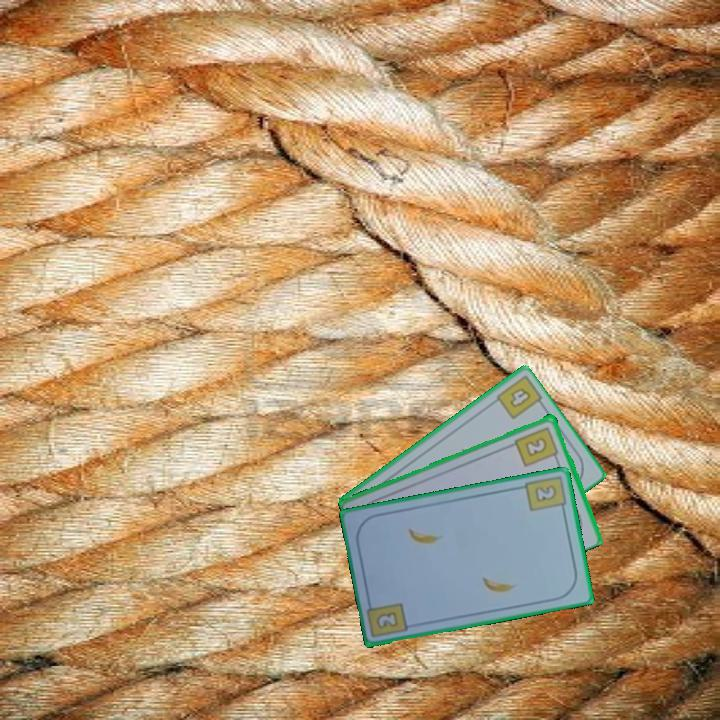2b: (512, 423, 561, 469), (521, 473, 568, 516), (373, 608, 401, 632)
4b: (506, 384, 534, 411)
